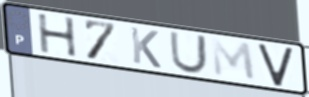7: (82, 18, 119, 62)
H: (35, 12, 79, 59)
K: (128, 25, 163, 70)
M: (209, 36, 259, 84)
U: (168, 30, 209, 76)
V: (256, 43, 296, 89)
